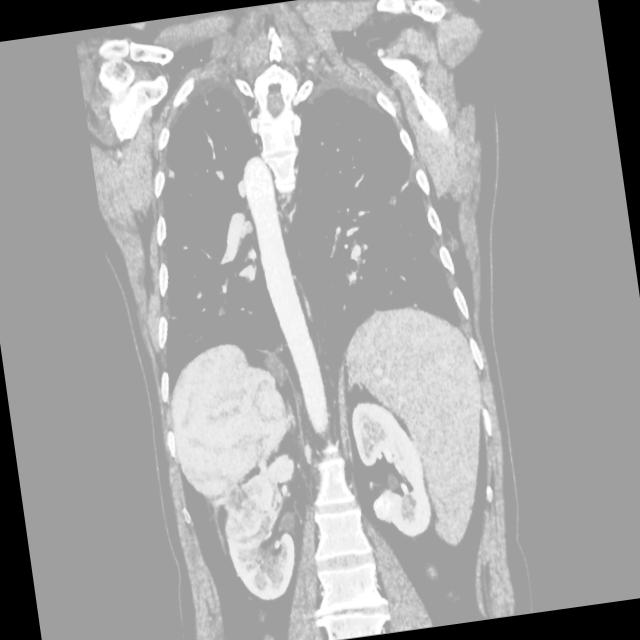TUMOR: (75, 341, 561, 616)
